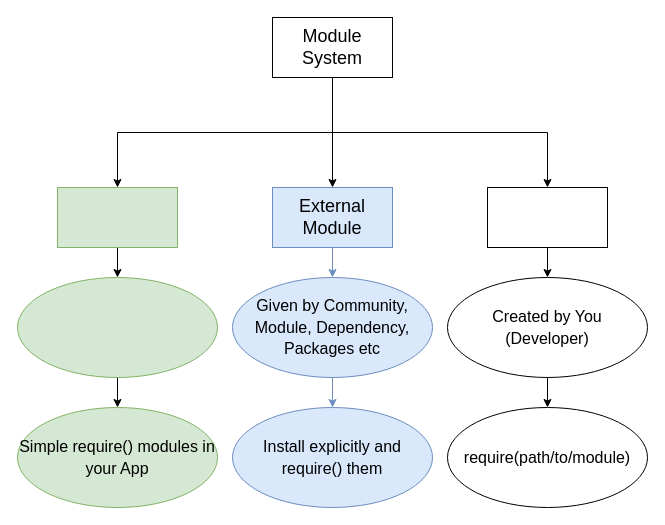
Image size: 665x525. Some labels were removed from this diagram. The centre of each missing label's shape, as x and y in pixels:
File Module: the point at 547,217
Modules comes with Node installer: the point at 117,327
Native Module: the point at 117,217
